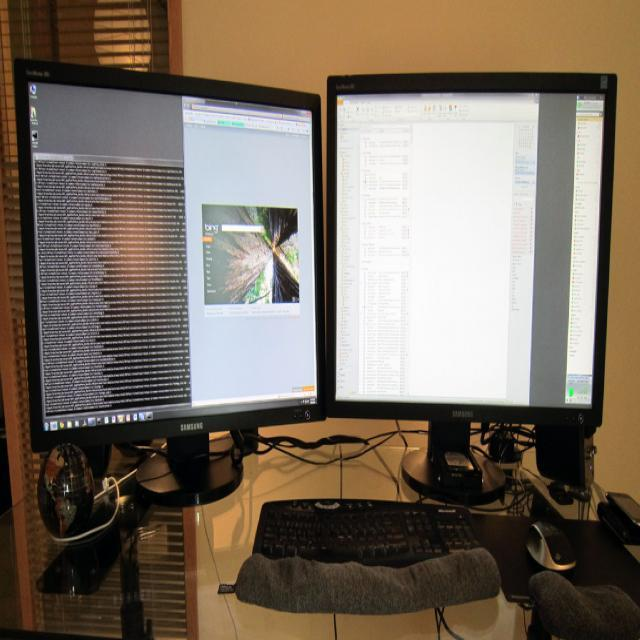others: (1, 43, 640, 488)
